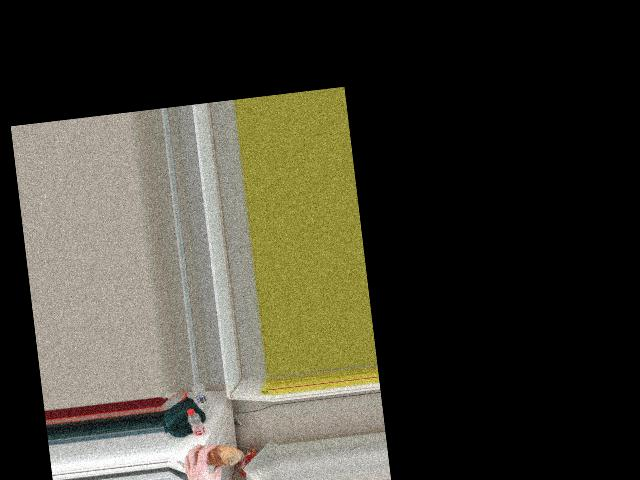sweet_potato: (198, 445, 233, 473)
